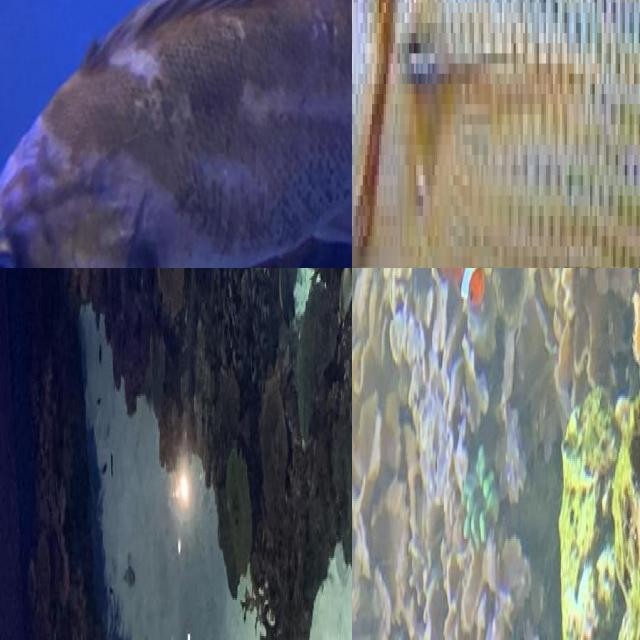fish: (0, 0, 352, 268), (352, 0, 640, 268), (411, 268, 483, 322)
